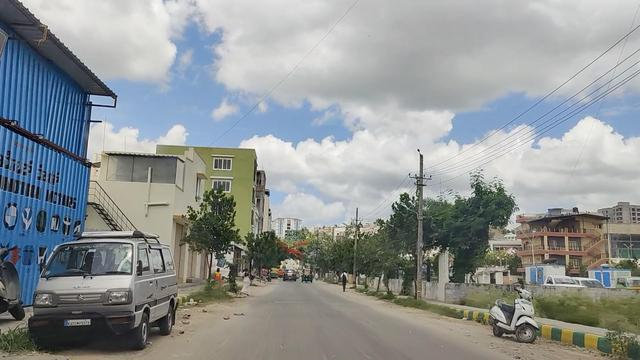LMV: (32, 232, 152, 348), (486, 282, 540, 344)
